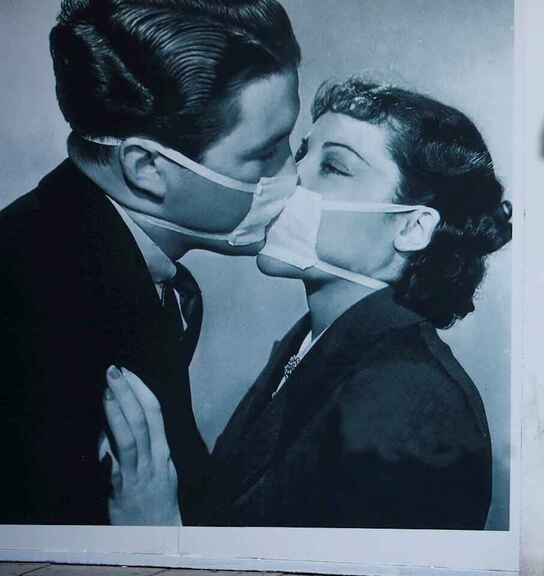with_mask: (262, 93, 446, 305), (177, 71, 302, 267)
